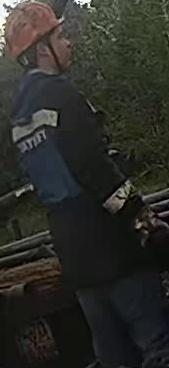gloves: (124, 189, 169, 255)
helmet: (4, 2, 66, 63)
vest: (9, 73, 134, 243)
